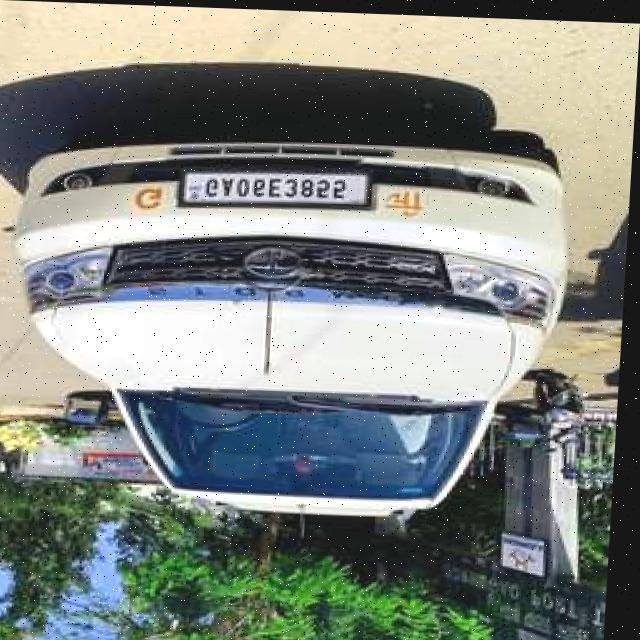plate: (181, 165, 374, 210)
